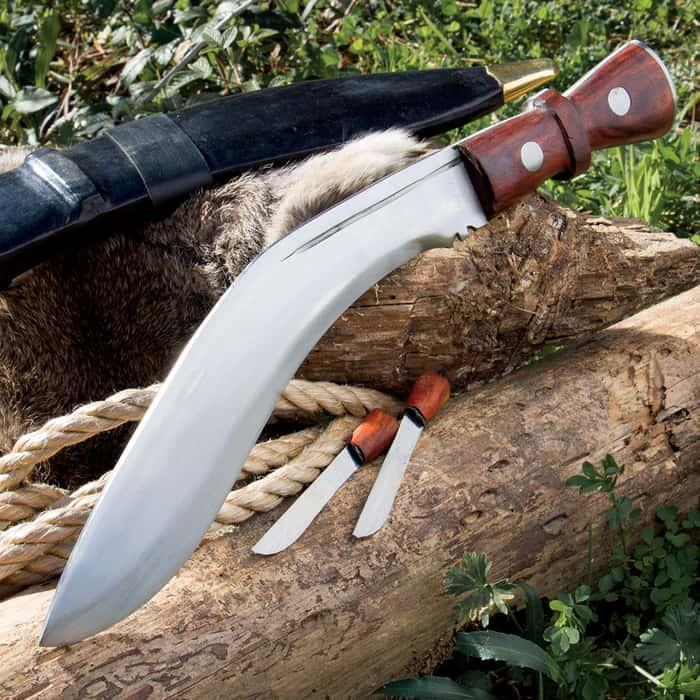facao: (40, 42, 674, 645)
